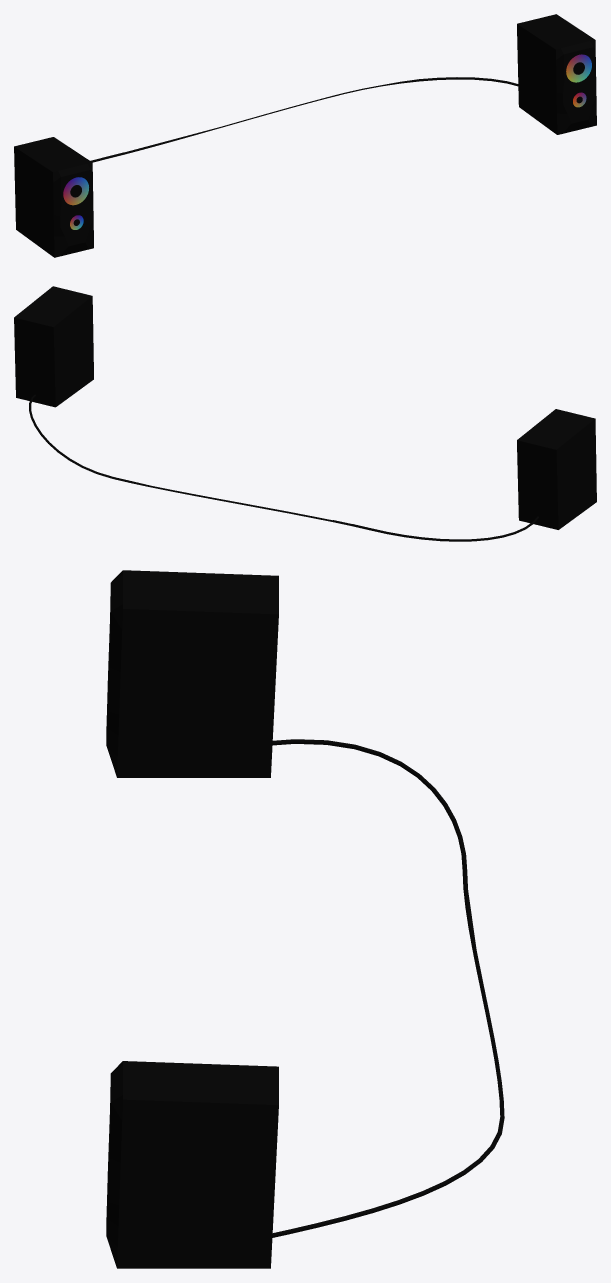
File: speakers.glb
3 renders of one model, top to bottom at view 1: azimuth 30°, elevation 25°; view 2: azimuth 150°, elevation 25°; view 3: azimuth 270°, elevation 25°, orthographic. The views are drawn at different scales.
Visible parts, largest first — view 1: Cube.044, Cube.043, BezierCurve.008, Cylinder.001, Cylinder.003; view 2: Cube.043, Cube.044, BezierCurve.008; view 3: Cube.043, Cube.044, BezierCurve.008.
Boxes of the visible parts, left/top/right/bottom form: Cube.044: left=14, top=137, right=93, bottom=257; Cube.043: left=517, top=14, right=596, bottom=134; BezierCurve.008: left=90, top=77, right=518, bottom=162; Cylinder.001: left=566, top=54, right=591, bottom=82; Cylinder.003: left=63, top=177, right=88, bottom=205; Cube.043: left=14, top=286, right=93, bottom=407; Cube.044: left=517, top=409, right=596, bottom=529; BezierCurve.008: left=29, top=394, right=538, bottom=541; Cube.043: left=106, top=1061, right=278, bottom=1268; Cube.044: left=106, top=570, right=278, bottom=777; BezierCurve.008: left=272, top=739, right=504, bottom=1237.
Size of the model in its own units: 8.01 by 1.21 by 2.55.
Materials: 2 (1 with a texture image).
